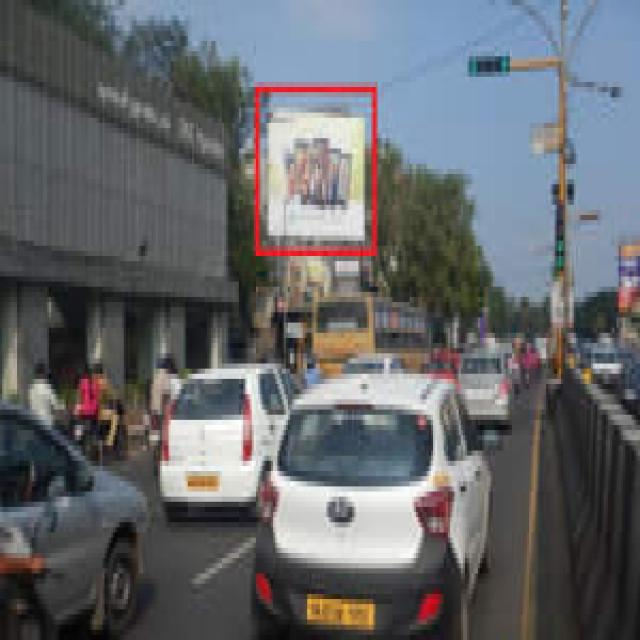Werbetafel frei: (258, 86, 376, 249)
